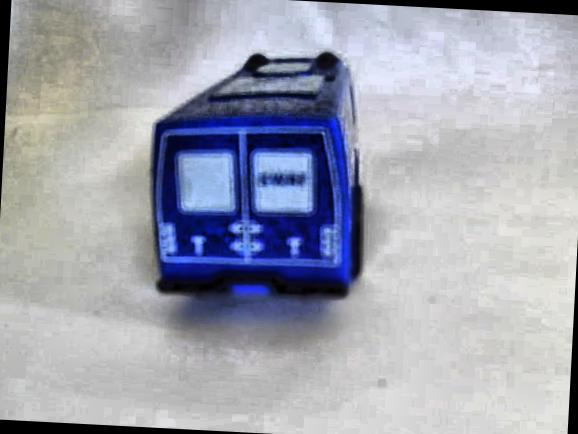police car: (143, 36, 370, 304)
